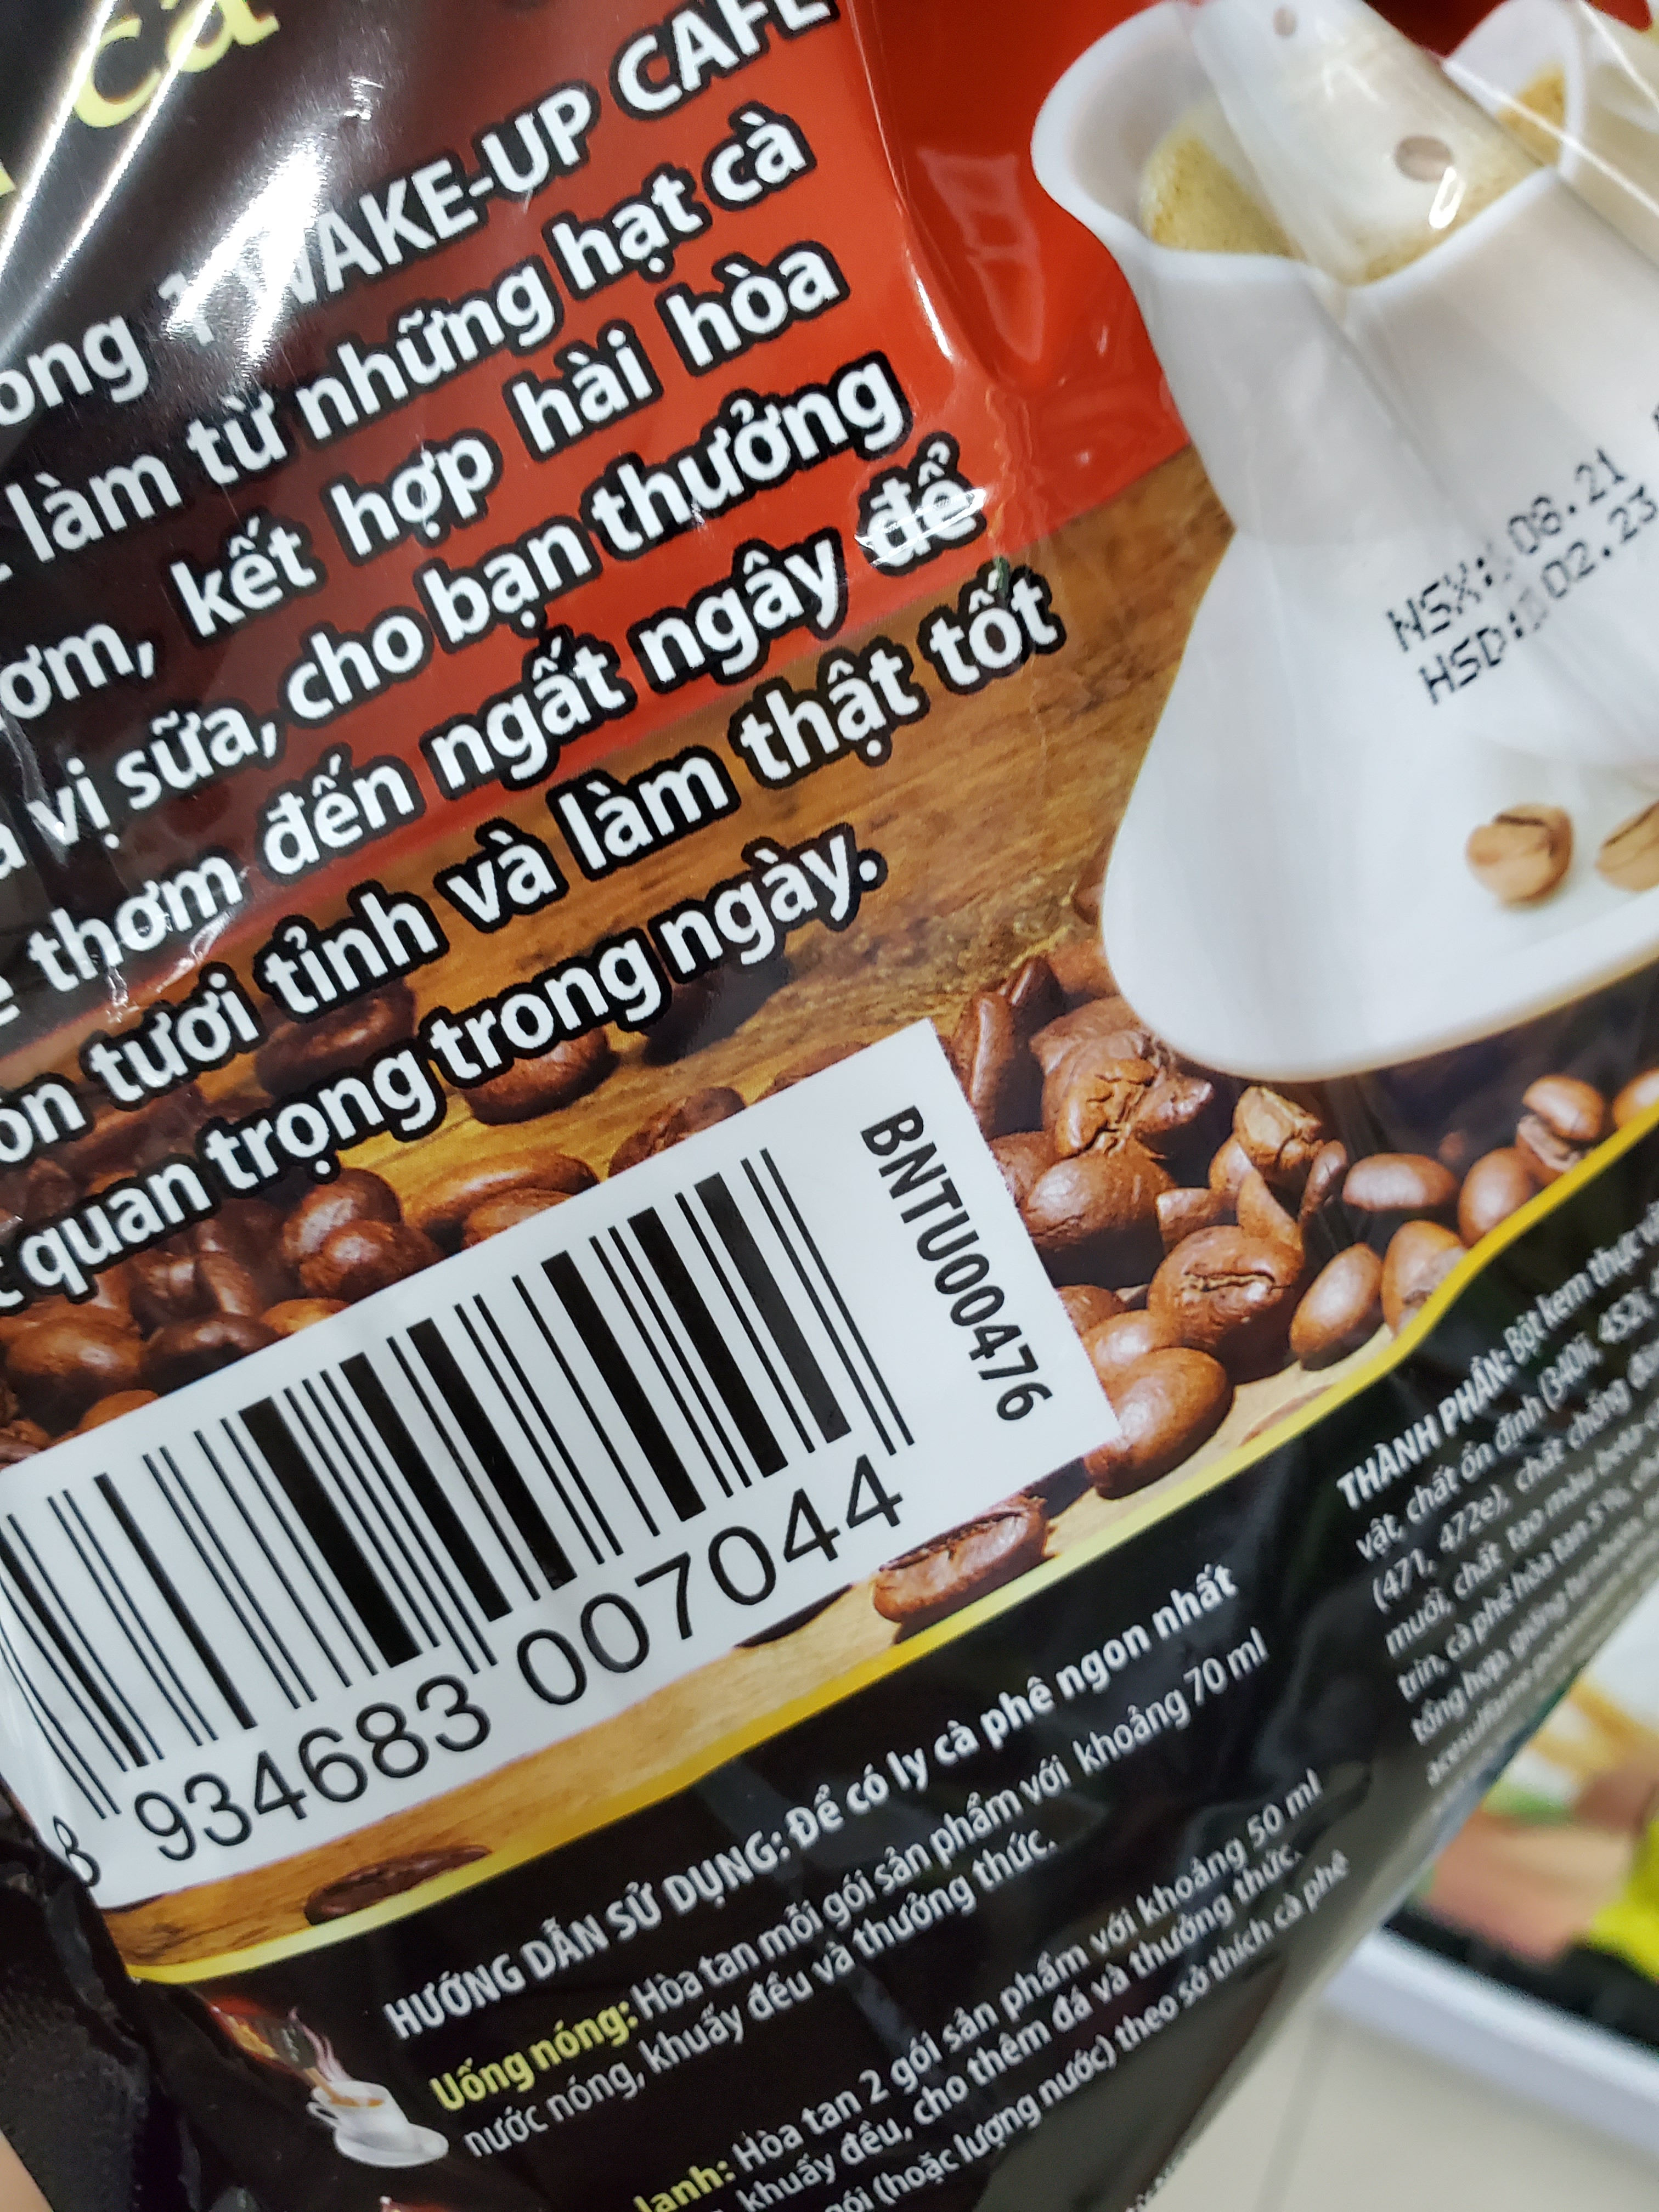barcode: (0, 1116, 983, 1921)
